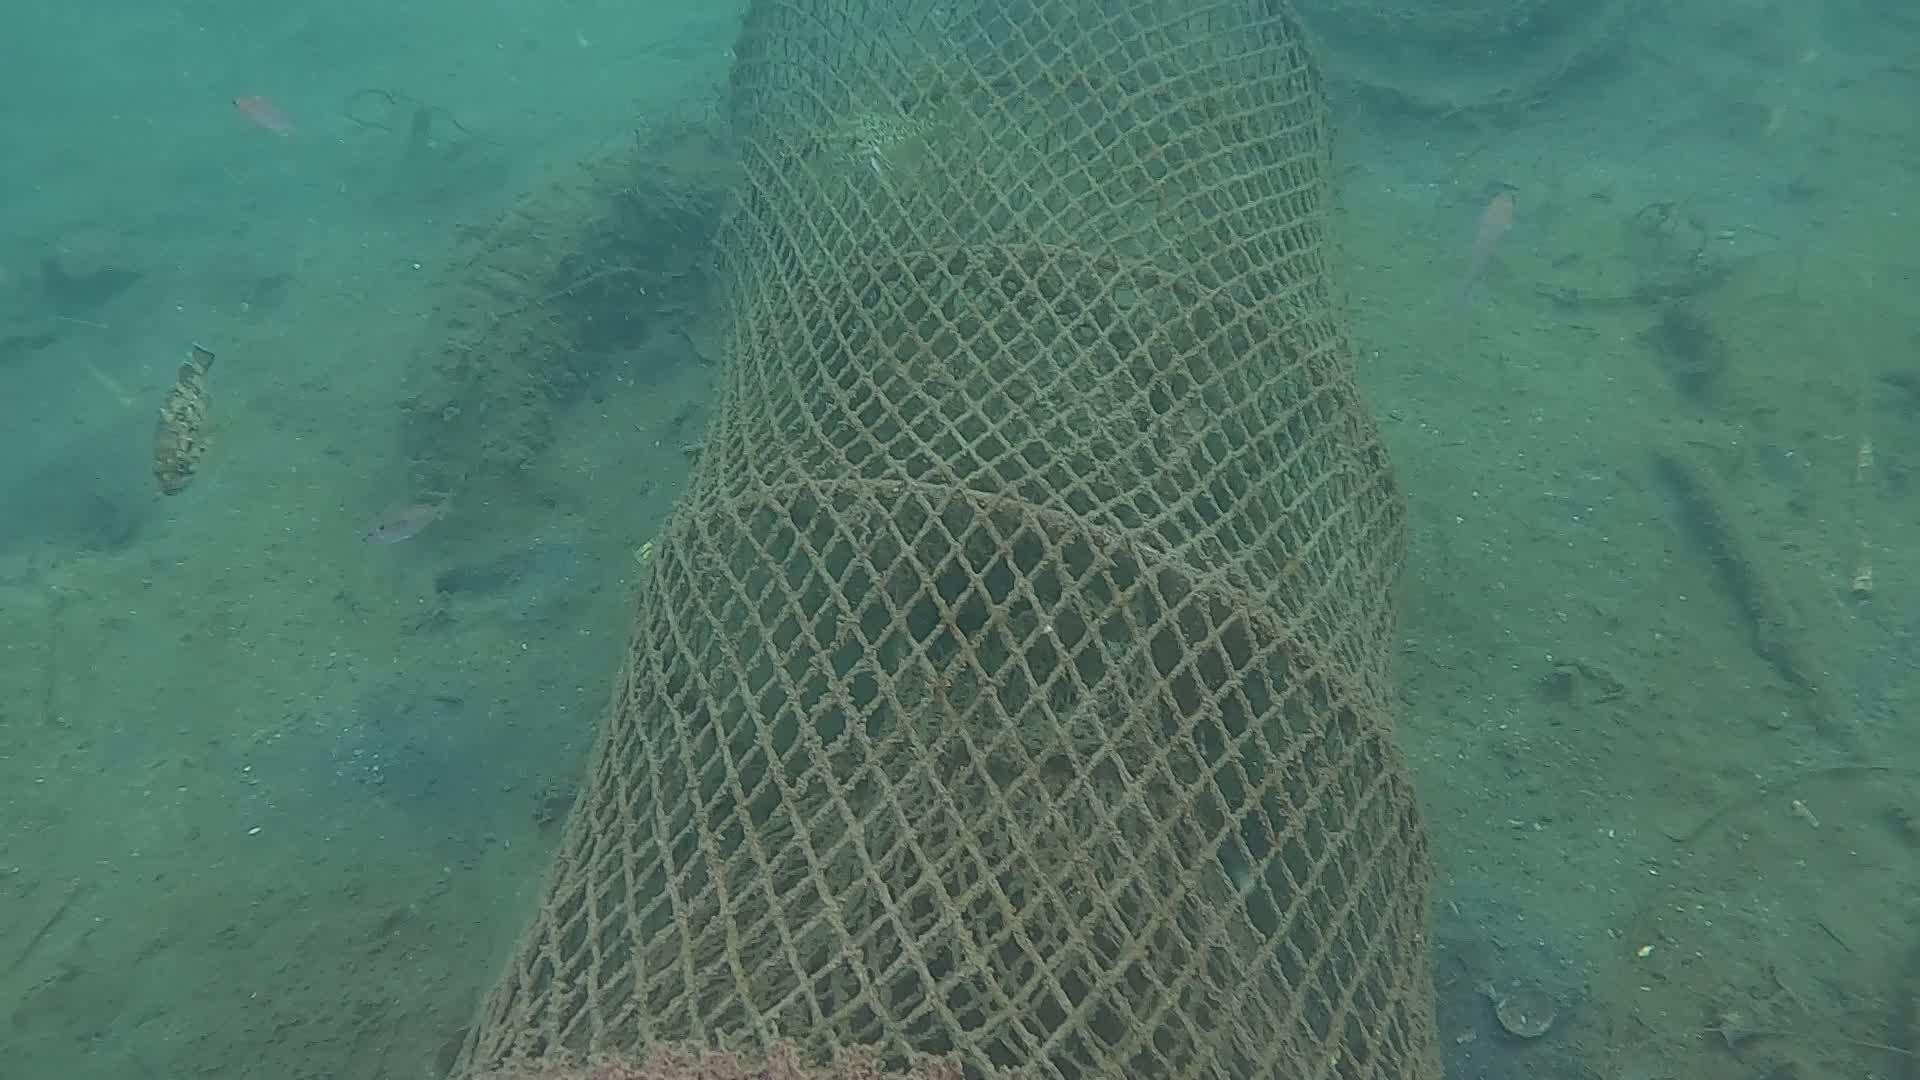spring fish trap: (450, 0, 1437, 1080)
